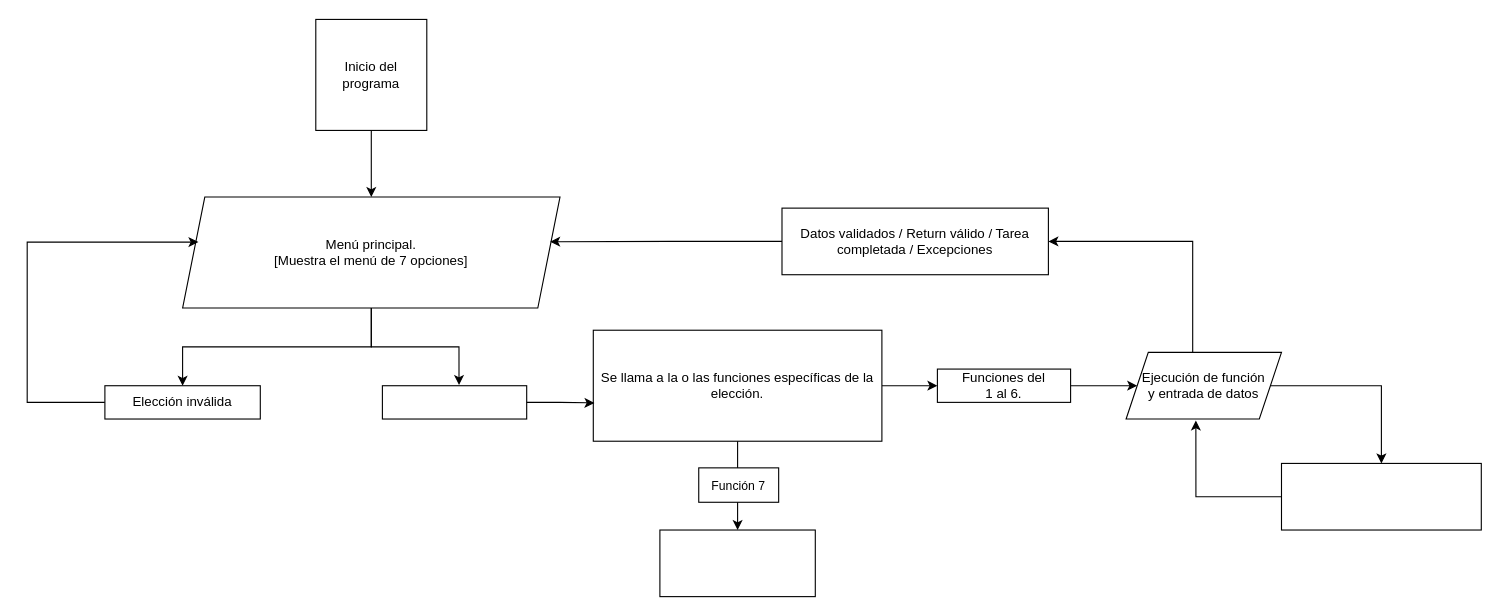
Image size: 1501x616. Some labels were removed from this diagram. Each missing label, with the centre of its shape:
"Cierre del programa." goes at [737,563].
"Elección válida" goes at [454,402].
"Return inválido (bucle interno, sucede en las opciones 1,3,6)" goes at [1380,496].
